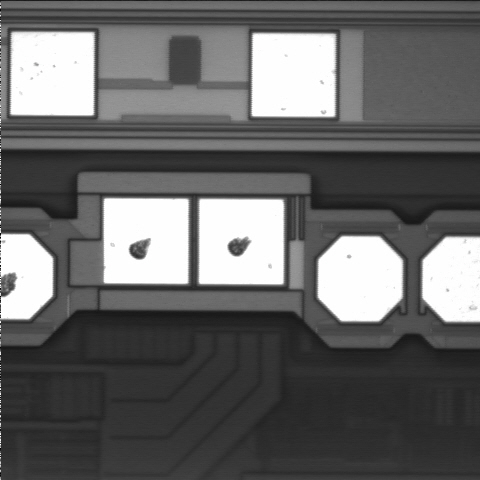pad: (199, 199, 284, 284), (318, 236, 403, 321), (104, 198, 188, 284), (11, 32, 94, 115), (252, 34, 335, 117)
